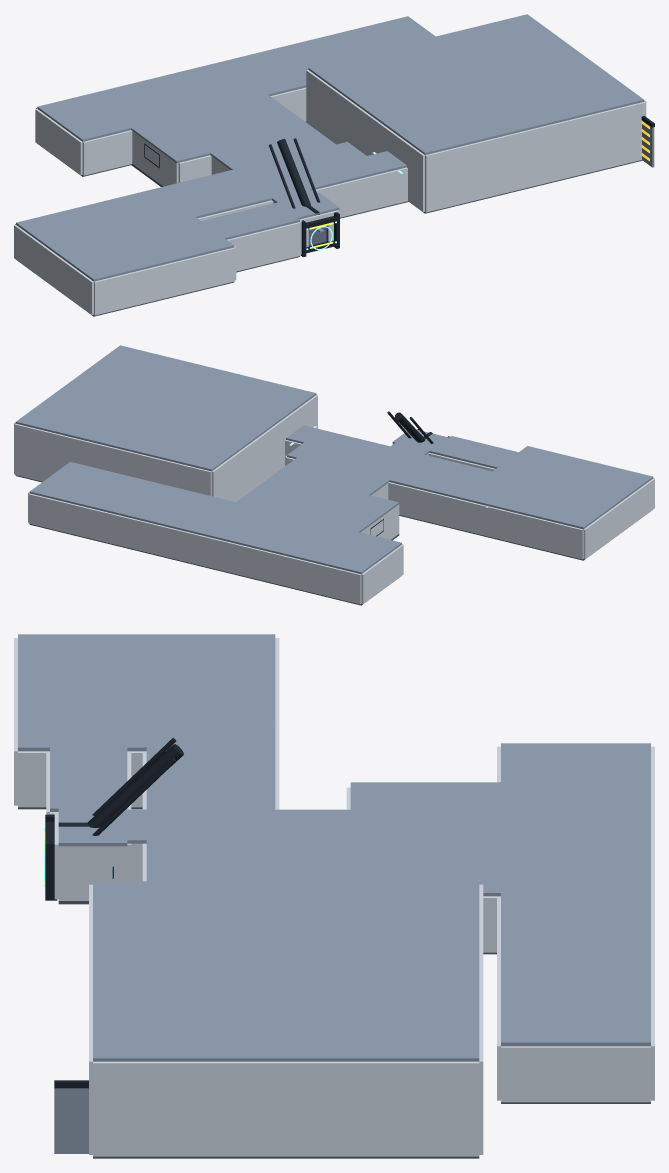
File: habitat.glb
3 views of the same model, one above another, from view 1: azimuth 30°, elevation 25°; view 2: azimuth 150°, elevation 25°; view 3: azimuth 270°, elevation 25° (orthographic). The views are drawn at different scales.
Visible parts, largest first — view 1: habitat_int_panel, habitat_int_hull, habitat_int_trim, habitat_int_floor; view 2: habitat_int_panel, habitat_int_hull, habitat_int_floor, habitat_int_trim; view 3: habitat_int_panel, habitat_int_hull, habitat_int_trim, habitat_int_floor.
Boxes of the visible parts, <box> form: habitat_int_panel: <box>16,14,654,281</box>; habitat_int_hull: <box>14,69,646,315</box>; habitat_int_trim: <box>144,116,654,256</box>; habitat_int_floor: <box>18,121,642,316</box>; habitat_int_panel: <box>15,345,653,574</box>; habitat_int_hull: <box>14,394,654,604</box>; habitat_int_floor: <box>15,475,649,605</box>; habitat_int_trim: <box>370,411,449,536</box>; habitat_int_panel: <box>18,634,650,1153</box>; habitat_int_hull: <box>14,638,654,1156</box>; habitat_int_trim: <box>45,738,183,1088</box>; habitat_int_floor: <box>18,807,650,1158</box>.
Size of the model in its own units: 51.36 by 7.28 by 29.86.
